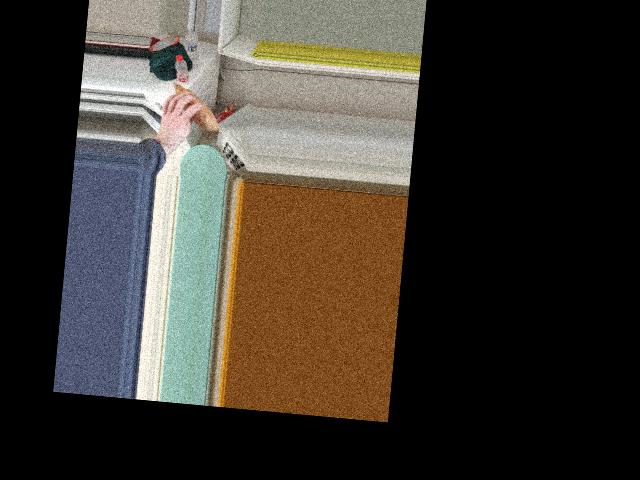sweet_potato: (165, 84, 219, 130)
